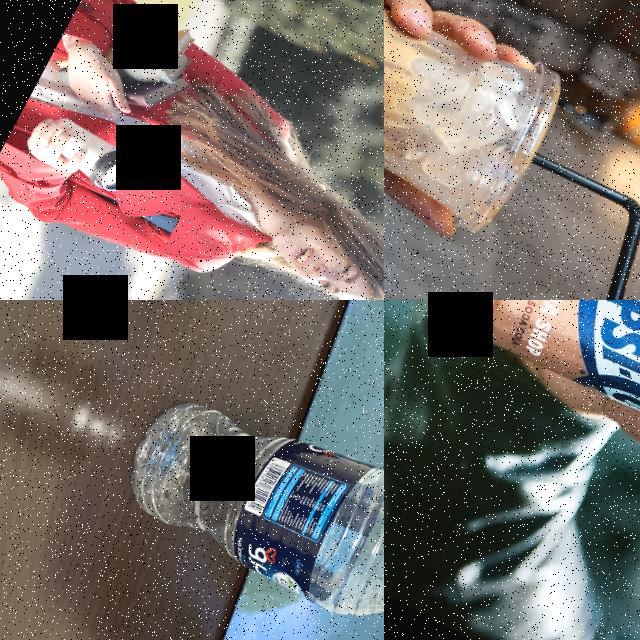bottle: (99, 346, 384, 640)
can: (449, 300, 640, 499)
cup: (384, 0, 573, 243), (29, 106, 148, 202)
